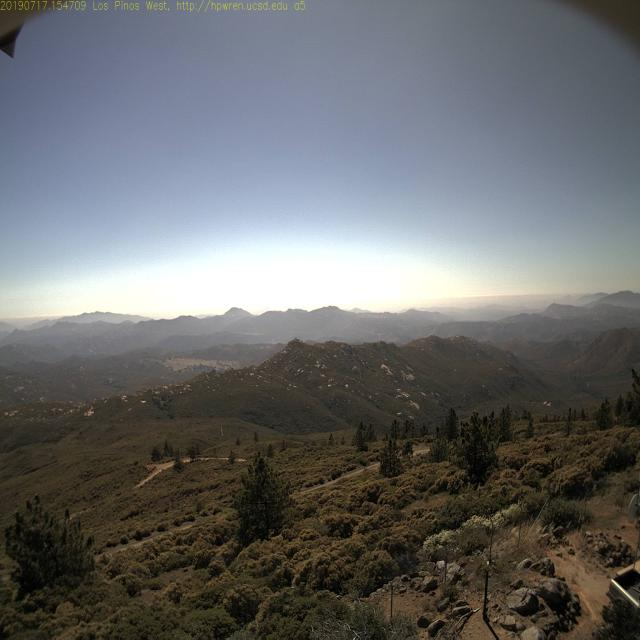smoke: (414, 290, 432, 322)
